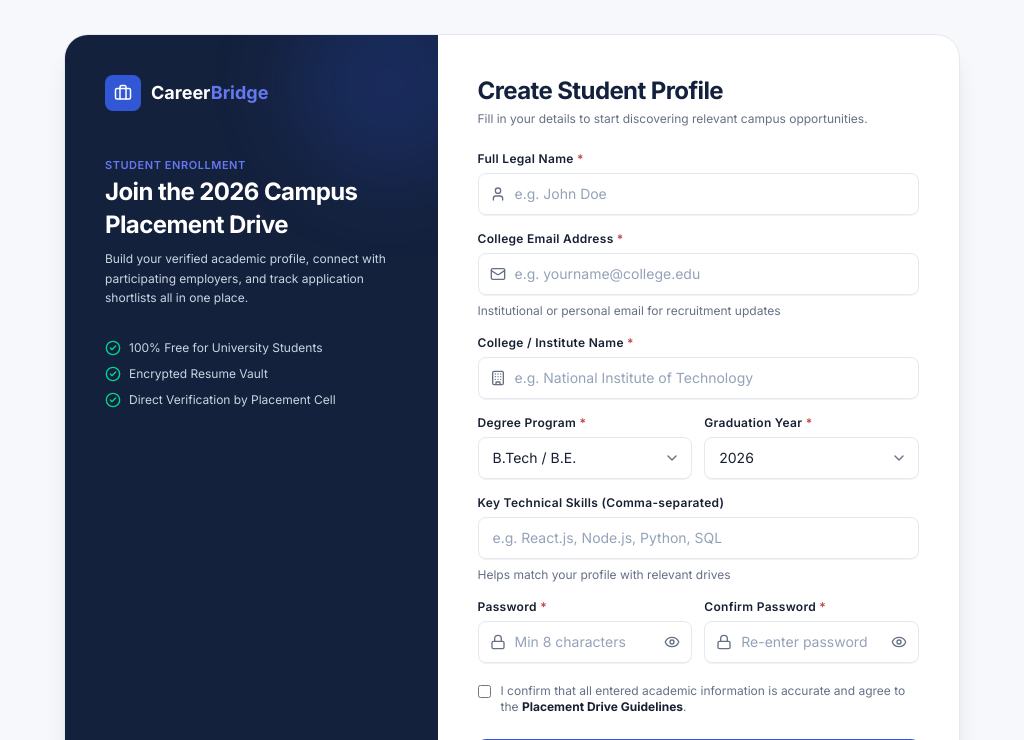
Test case: Authentication UI & Validation Tests › displays password mismatch validation error on register page
Type "Jane Student" into the field labelled "Full Legal Name *" at (698, 194), box [478, 173, 919, 215]
Type "jane@college.edu" into the field labelled "College Email Address *" at (698, 274), box [478, 253, 919, 295]
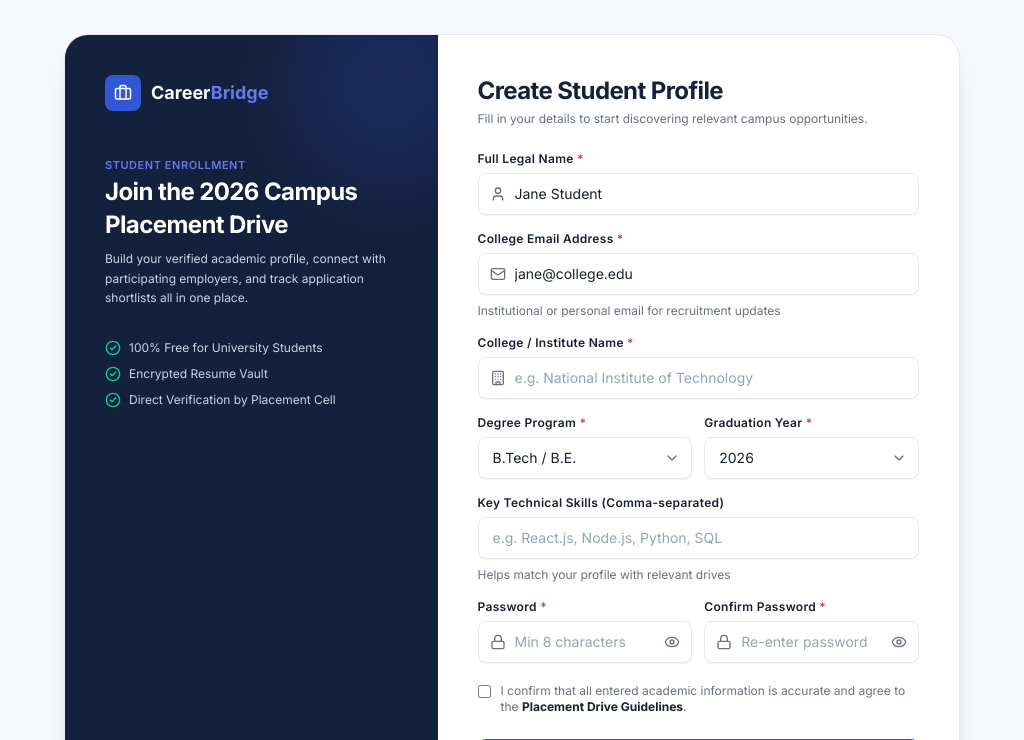
Type "MIT College" into the field labelled "College / Institute Name *" at (698, 378), box [478, 357, 919, 399]
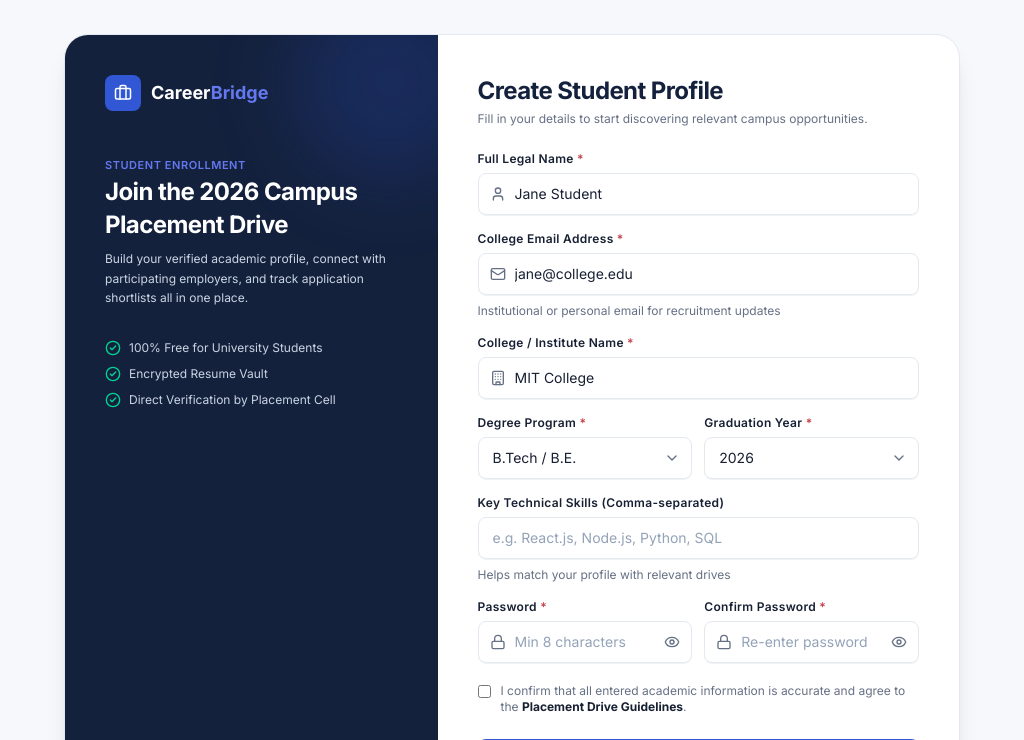
Type "password123" into the password field labelled "Password *" at (585, 642), box [478, 621, 692, 663]
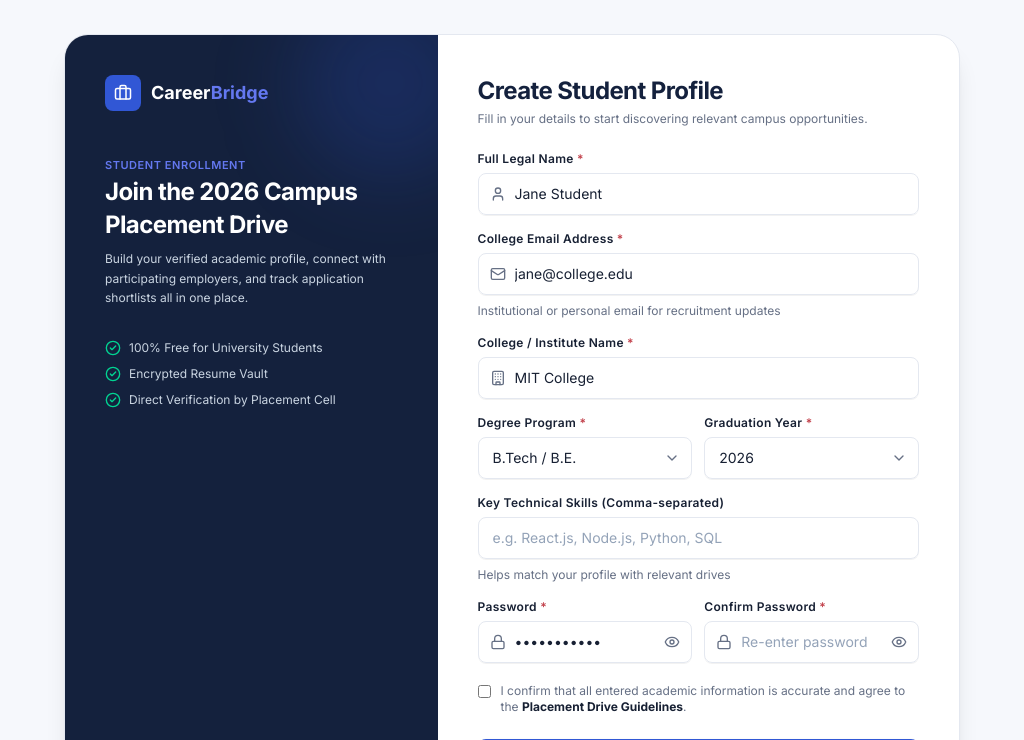
Type "different123" into the password field labelled "Confirm Password *" at (812, 642), box [704, 621, 919, 663]
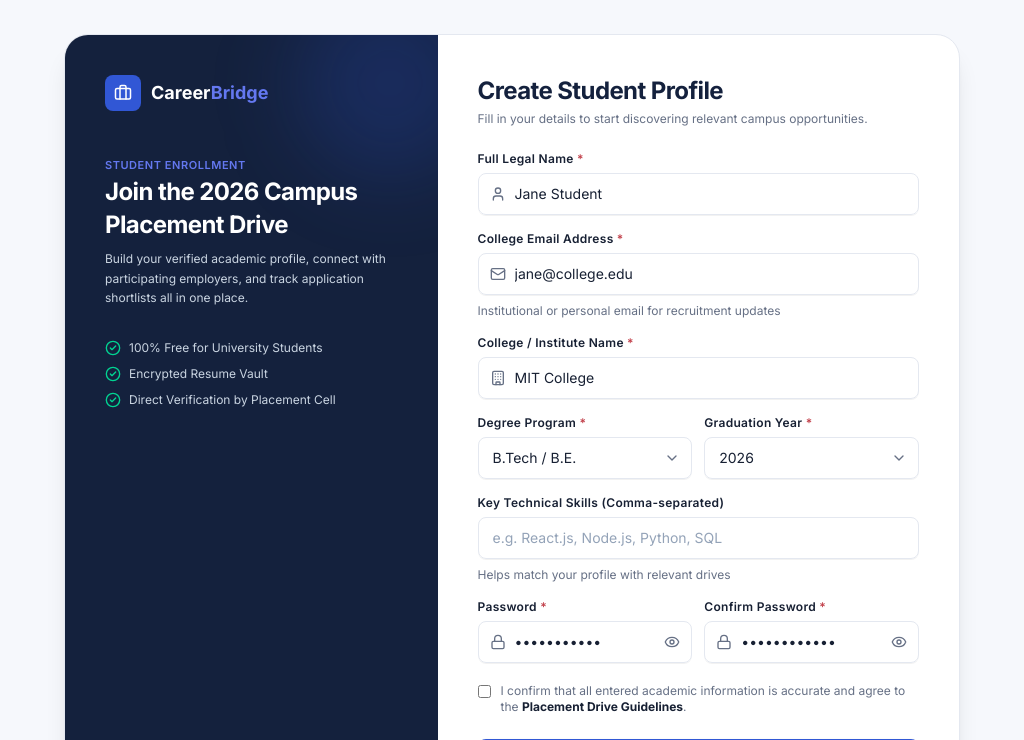
Click the checkbox at (484, 692), box [478, 685, 490, 698]
(page scrolled)
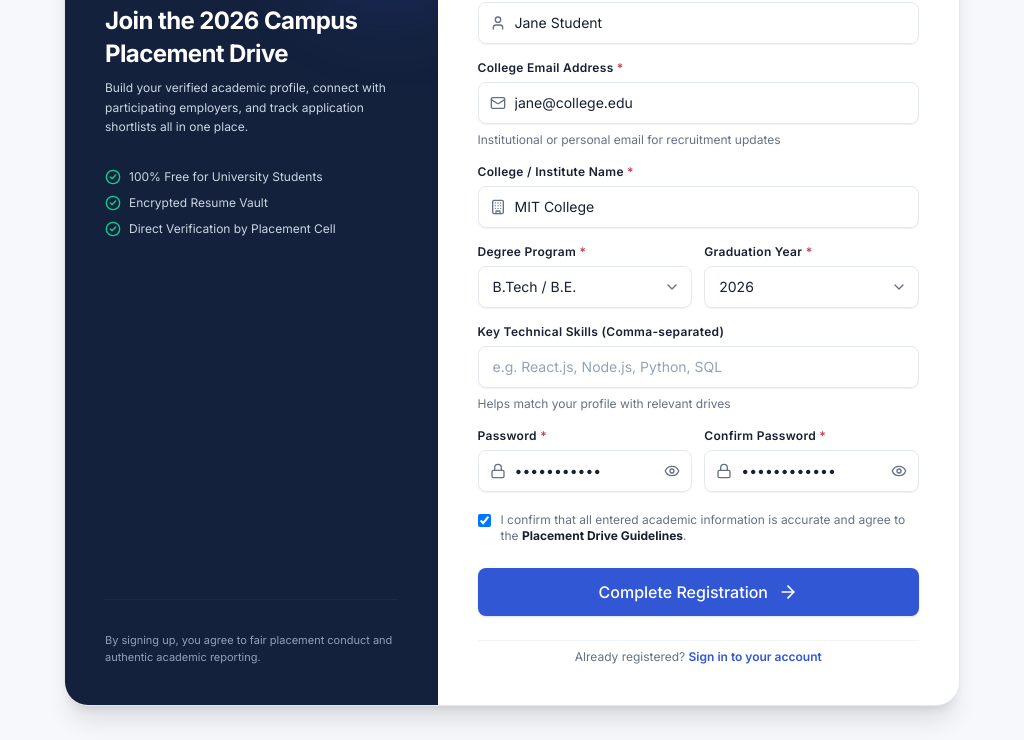
Click the button "Complete Registration" at (698, 592), box [478, 568, 919, 616]
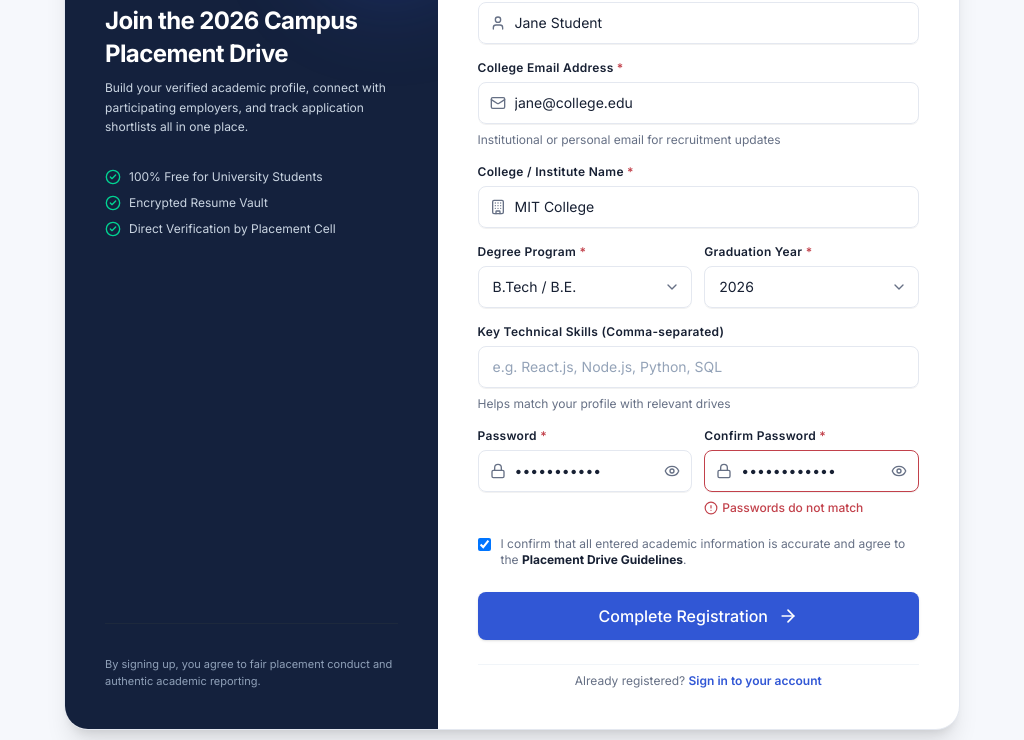
Expected: the text "Passwords do not match" is shown, [722, 500, 863, 516]
